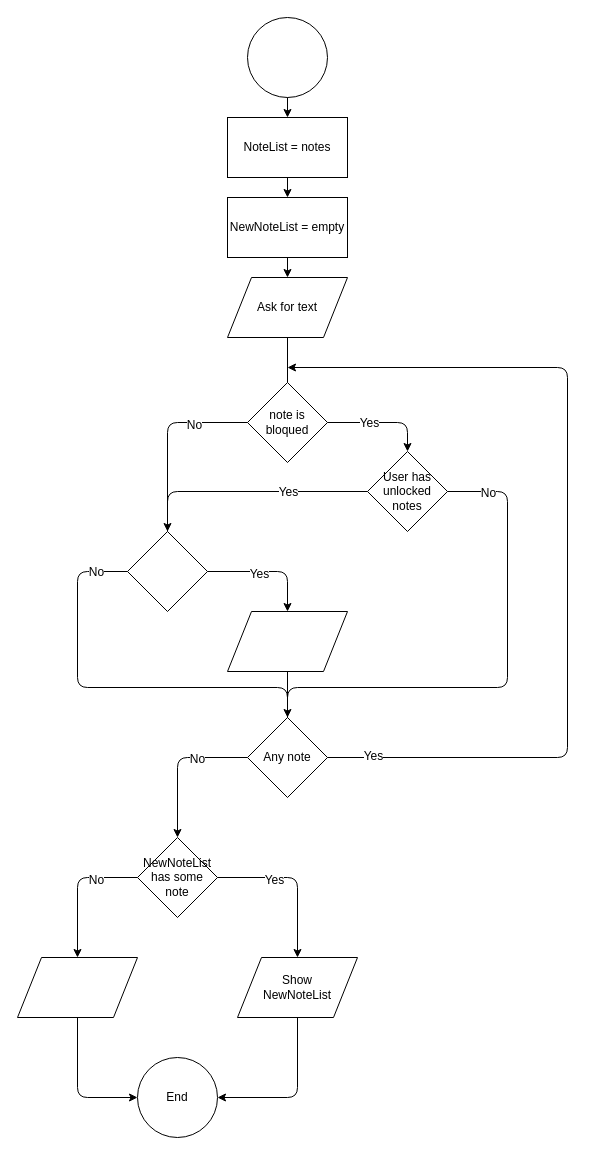
Image size: 593x1155. Some labels were removed from this diagram. The shapes that lost their labels are listed below. From the top down, each one's centre as x and y in pixels, then its label:
(287,57): Start
(167,571): Note contains text
(287,641): Add note at NewNoteList
(77,987): Show message of none found
